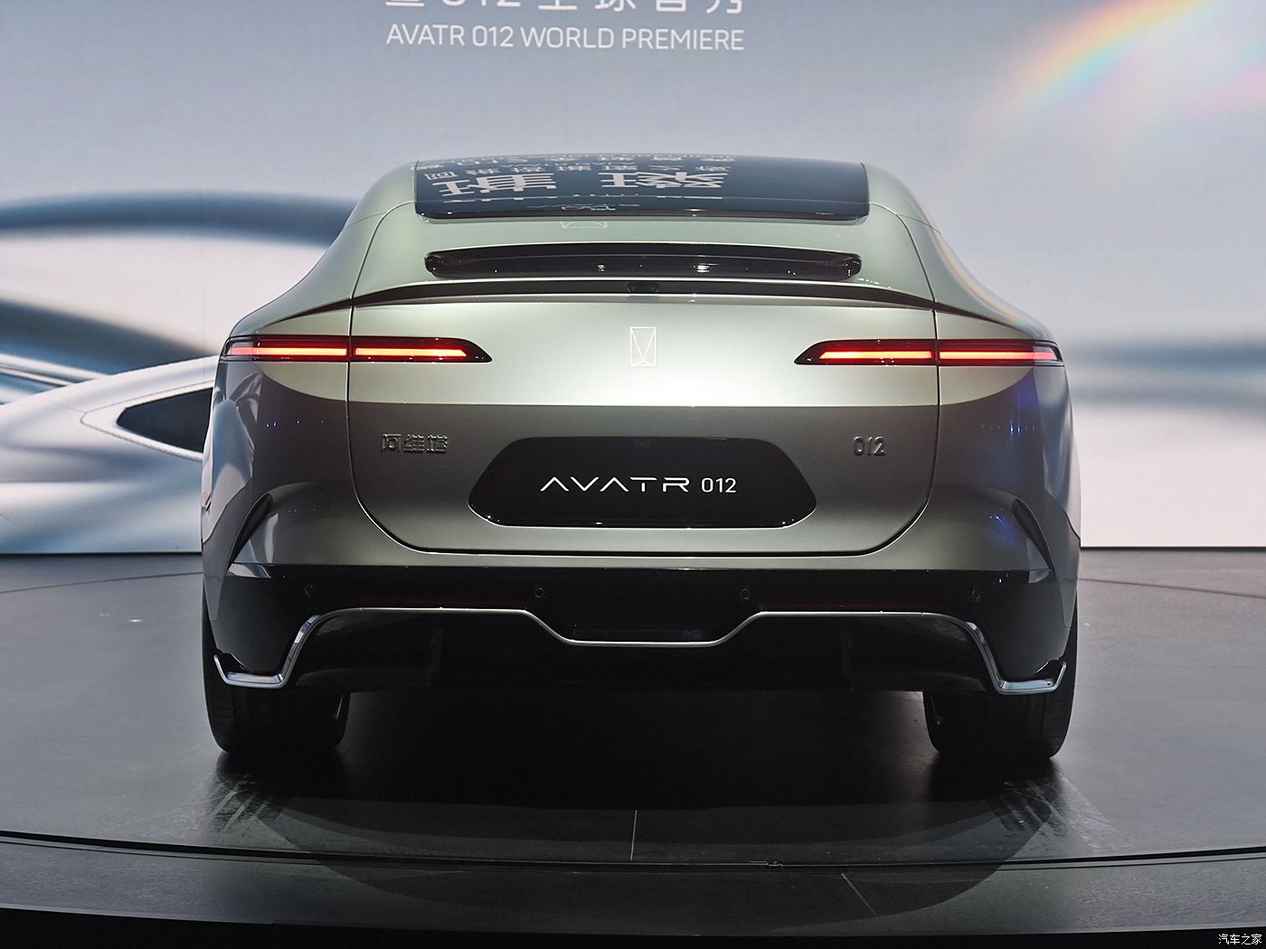AVATR: (629, 327, 657, 368)
